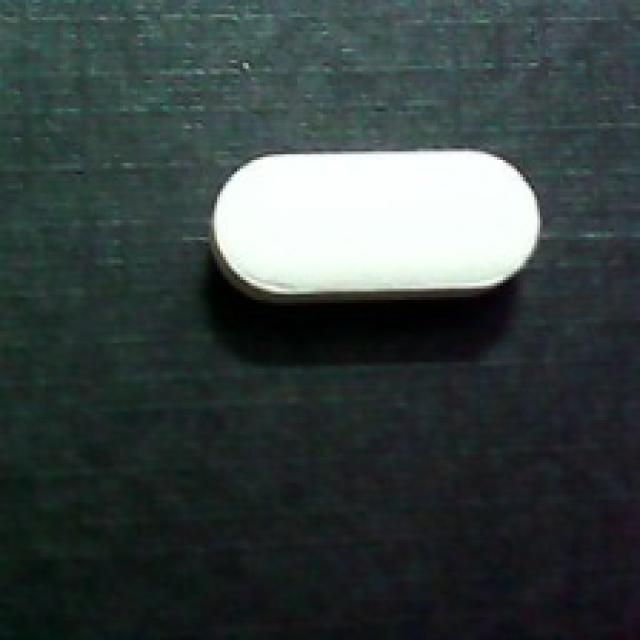no-defect: (206, 140, 546, 314)
